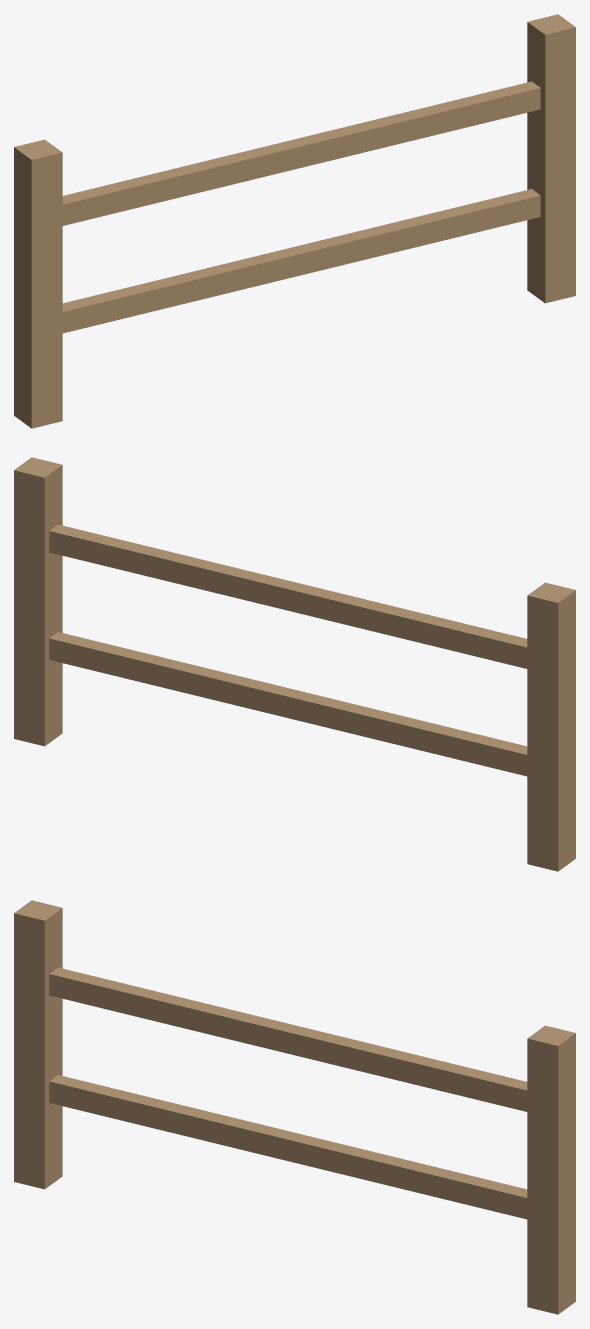
File: prop_fence.glb
The picture shows the model from 3 angles, top to bottom: view 1: azimuth 30°, elevation 25°; view 2: azimuth 150°, elevation 25°; view 3: azimuth 330°, elevation 25°; orthographic projection.
Parts seen in each view (by area): view 1: Cube.003, Cube.002, Cube, Cube.001; view 2: Cube.003, Cube.002, Cube, Cube.001; view 3: Cube.003, Cube.002, Cube.001, Cube.
Boxes of the visible parts, left/top/right/bottom form: Cube.003: left=62, top=81, right=540, bottom=225; Cube.002: left=62, top=189, right=540, bottom=333; Cube: left=14, top=139, right=62, bottom=428; Cube.001: left=527, top=14, right=575, bottom=303; Cube.003: left=49, top=524, right=527, bottom=668; Cube.002: left=49, top=632, right=527, bottom=776; Cube: left=527, top=582, right=575, bottom=871; Cube.001: left=14, top=457, right=62, bottom=746; Cube.003: left=49, top=967, right=527, bottom=1111; Cube.002: left=49, top=1075, right=527, bottom=1219; Cube.001: left=527, top=1025, right=575, bottom=1314; Cube: left=14, top=900, right=62, bottom=1189.
Size of the model in its own units: 2.12 by 1 by 0.12.
